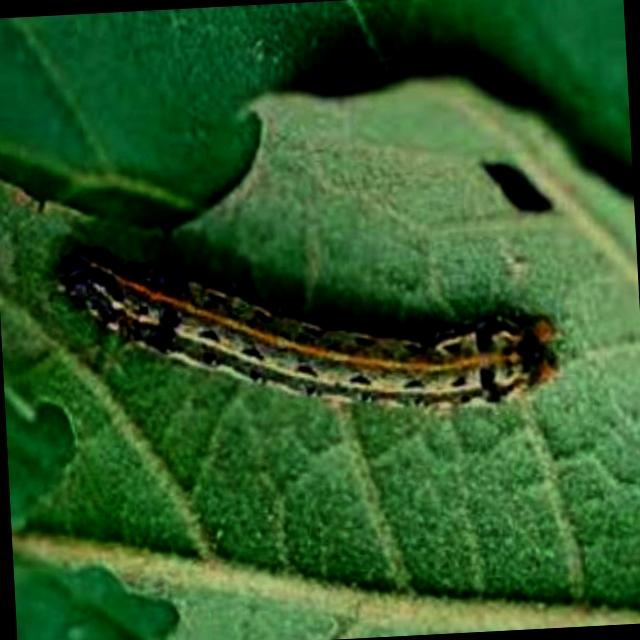Beet armyworm: (9, 78, 574, 540)
